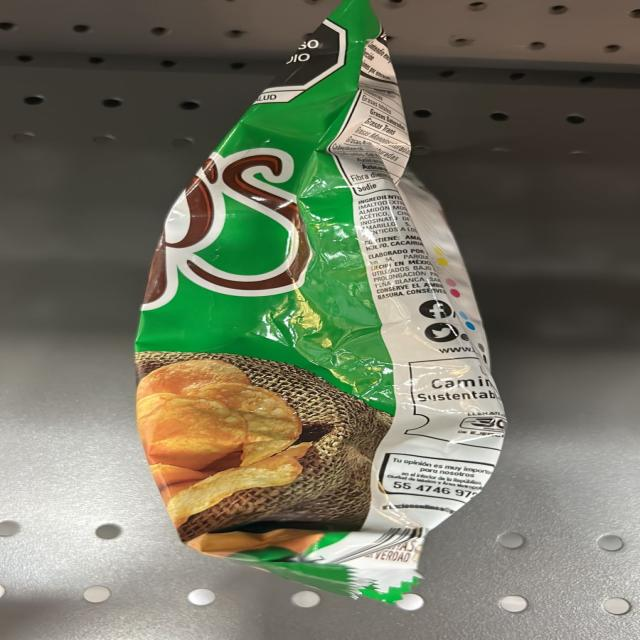chipsJalapeno: (158, 27, 466, 571)
